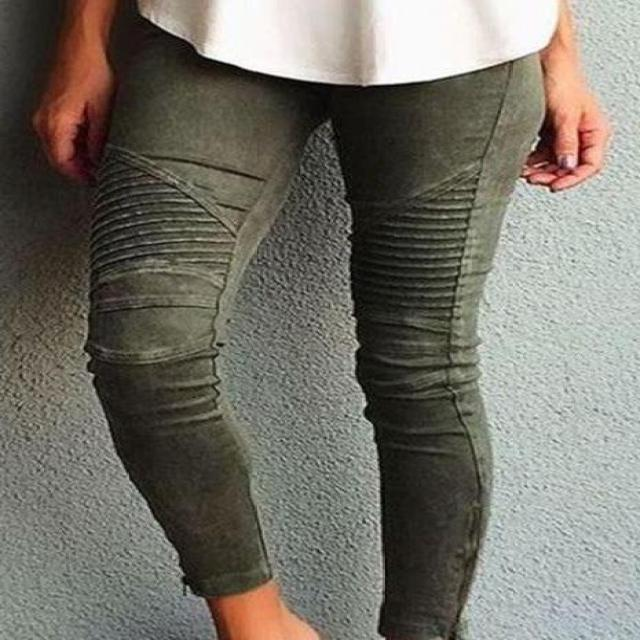pants: (83, 9, 542, 638)
